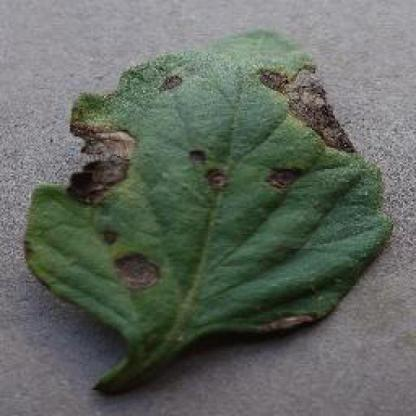Tomato_Blight: (27, 29, 391, 342)
